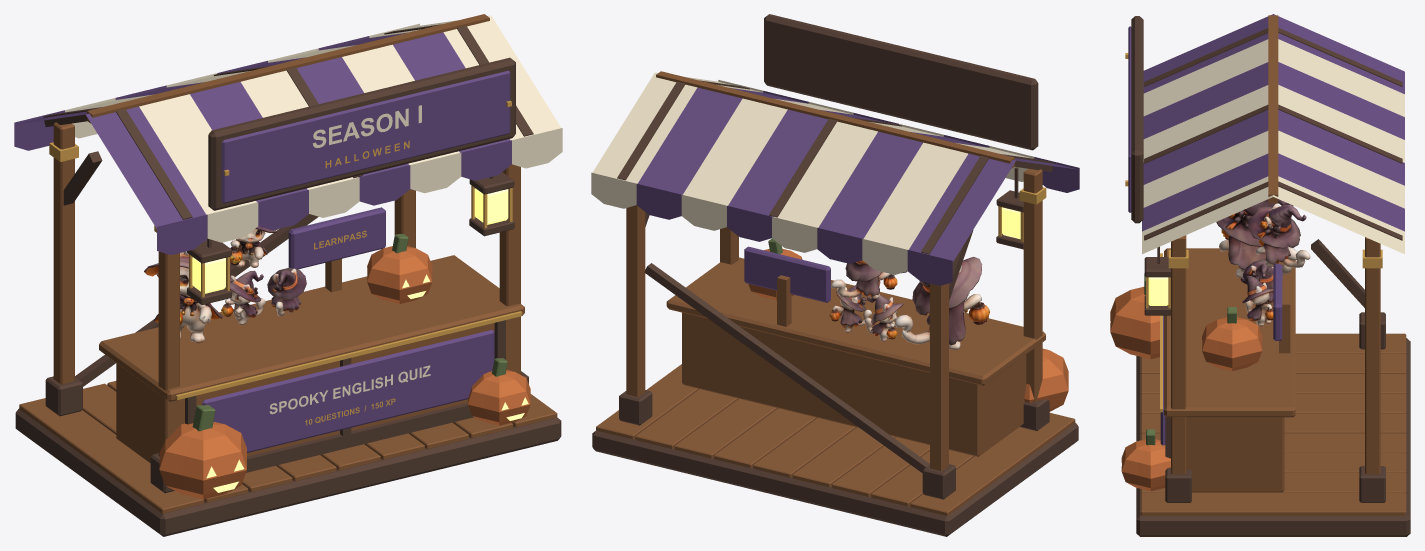
Rendered from spooky-stand.glb.
3 views of the same model, side by side, from view 1: azimuth 30°, elevation 25°; view 2: azimuth 150°, elevation 25°; view 3: azimuth 270°, elevation 25° (orthographic). The views are drawn at different scales.
Visible parts, largest first — view 1: Stand_Plum_canvas, Stand_Warm_chestnut_timber, Stand_Darker_timber_and_iron, Stand_Ivory_canvas_and_lettering, Stand_Pumpkin_orange, Mascot_HalloweenCat, Stand_Fairground_ochre_trim, Stand_Warm_lantern_glow, Stand_Pumpkin_stems; view 2: Stand_Warm_chestnut_timber, Stand_Darker_timber_and_iron, Stand_Plum_canvas, Stand_Ivory_canvas_and_lettering, Mascot_HalloweenCat, Stand_Pumpkin_orange, Stand_Fairground_ochre_trim; view 3: Stand_Warm_chestnut_timber, Stand_Plum_canvas, Stand_Ivory_canvas_and_lettering, Stand_Darker_timber_and_iron, Stand_Pumpkin_orange, Mascot_HalloweenCat, Stand_Fairground_ochre_trim, Stand_Warm_lantern_glow, Stand_Pumpkin_stems.
Part boxes in pixels (x1,y1,x2,y2): Stand_Plum_canvas: (14,32,511,452); Stand_Warm_chestnut_timber: (19,14,557,513); Stand_Darker_timber_and_iron: (15,24,561,536); Stand_Ivory_canvas_and_lettering: (65,15,562,414); Stand_Pumpkin_orange: (159,246,530,499); Mascot_HalloweenCat: (144,226,306,343); Stand_Fairground_ochre_trim: (49,100,522,425); Stand_Warm_lantern_glow: (192,188,528,492); Stand_Pumpkin_stems: (192,234,507,431); Stand_Warm_chestnut_timber: (596,71,1075,516); Stand_Darker_timber_and_iron: (592,14,1078,536); Stand_Plum_canvas: (636,87,1079,302); Stand_Ivory_canvas_and_lettering: (591,72,1034,274); Mascot_HalloweenCat: (829,256,989,349); Stand_Pumpkin_orange: (748,248,1068,411); Stand_Fairground_ochre_trim: (998,187,1046,242); Stand_Warm_chestnut_timber: (1140,15,1406,515); Stand_Plum_canvas: (1128,14,1404,445); Stand_Ivory_canvas_and_lettering: (1142,39,1404,254); Stand_Darker_timber_and_iron: (1131,16,1410,536); Stand_Pumpkin_orange: (1110,286,1262,491); Mascot_HalloweenCat: (1216,199,1310,326); Stand_Fairground_ochre_trim: (1125,53,1382,412); Stand_Warm_lantern_glow: (1148,277,1168,305); Stand_Pumpkin_stems: (1144,273,1236,445).
Size of the model in its own units: 3.88 by 3.61 by 2.71.
Materials: 9 (1 with a texture image).
